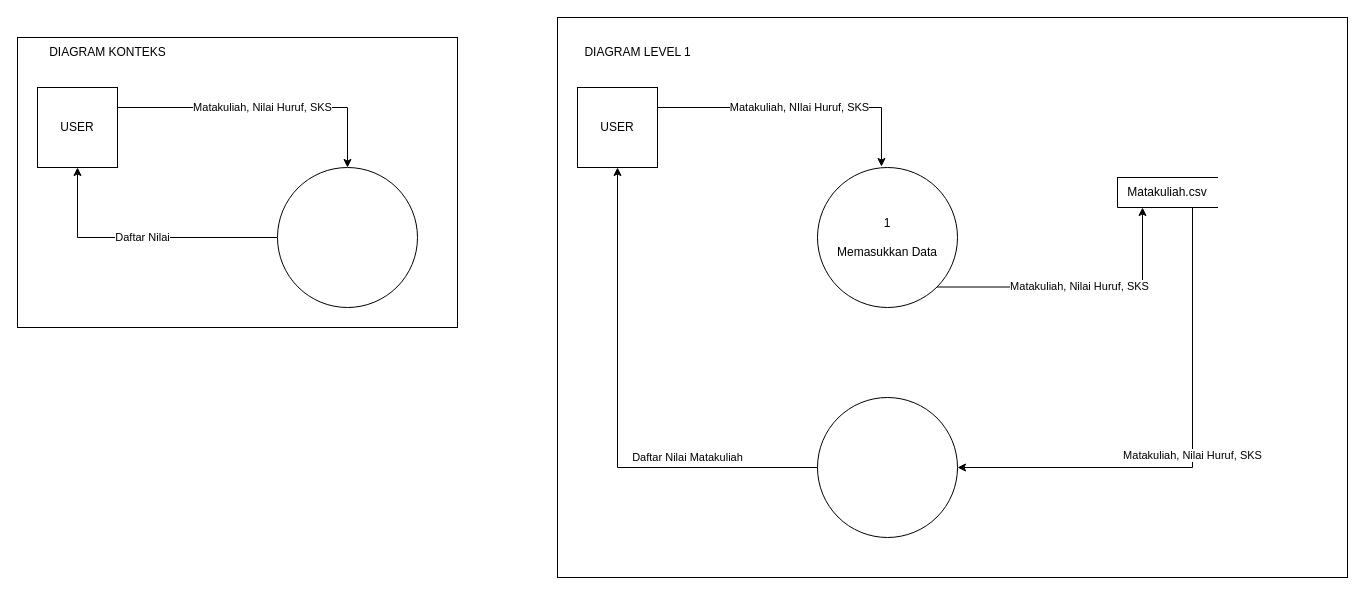
Image size: 1365x595. Some labels were removed from this diagram. Here are the shapes that lost their labels. From the top down, the box of each, then its label:
(276, 166, 418, 308): HITUNG IPK
(816, 396, 958, 538): 2 Menampilkan Data
